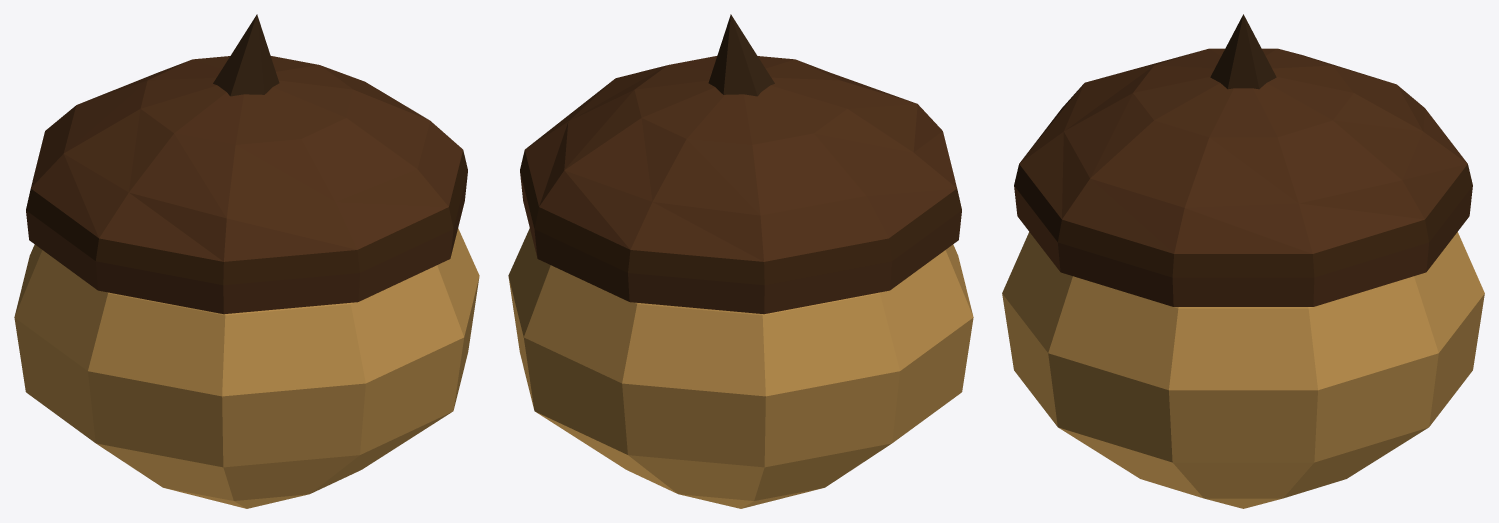
The model's file is acorn-6b2dd9.glb.
3 renders of one model, left to right at view 1: azimuth 30°, elevation 25°; view 2: azimuth 150°, elevation 25°; view 3: azimuth 270°, elevation 25°, orthographic.
Size of the model in its own units: 0.027 by 0.0325 by 0.0284.
